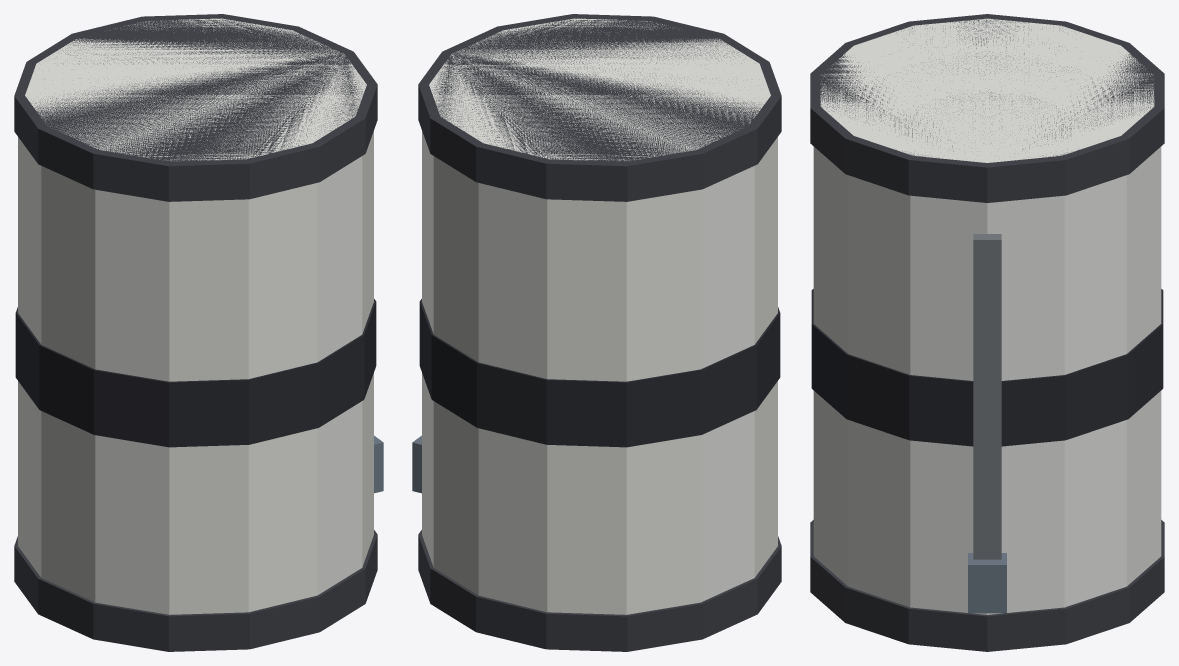
Rendered from Tank_M_Short.fbx.
The picture shows the model from 3 angles, left to right: view 1: azimuth 30°, elevation 25°; view 2: azimuth 150°, elevation 25°; view 3: azimuth 270°, elevation 25°; orthographic projection.
Visible parts, largest first — view 1: Tank_M_Short; view 2: Tank_M_Short; view 3: Tank_M_Short.
Part boxes in pixels (x1,y1,x2,y2): Tank_M_Short: (14,14,383,651); Tank_M_Short: (412,14,781,651); Tank_M_Short: (810,14,1164,651).
Size of the model in its own units: 2.17 by 3 by 1.99.
1 material, 1 textured.
